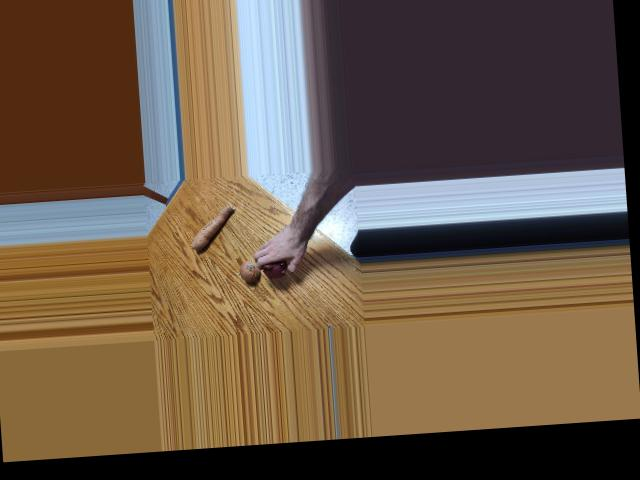onion: (261, 255, 284, 278)
